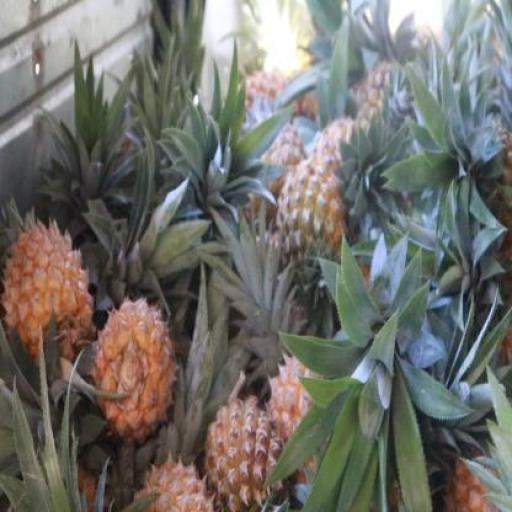Pineapple - v8 v1: (3, 225, 94, 372), (94, 294, 172, 428), (203, 388, 281, 512)
